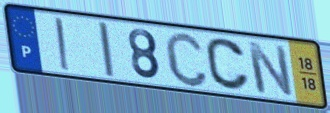8: (127, 27, 163, 81)
C: (162, 29, 211, 89), (204, 36, 252, 93)
I: (95, 20, 117, 79), (52, 15, 73, 73)
N: (245, 39, 296, 99)
